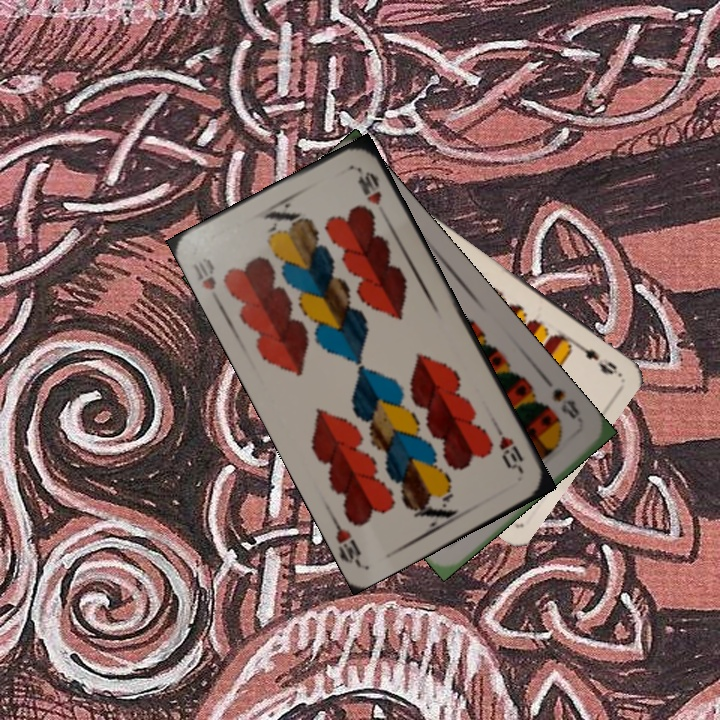E9: (566, 337, 620, 377)
H10: (491, 421, 526, 476), (189, 253, 224, 308)
S8: (548, 384, 583, 422)
